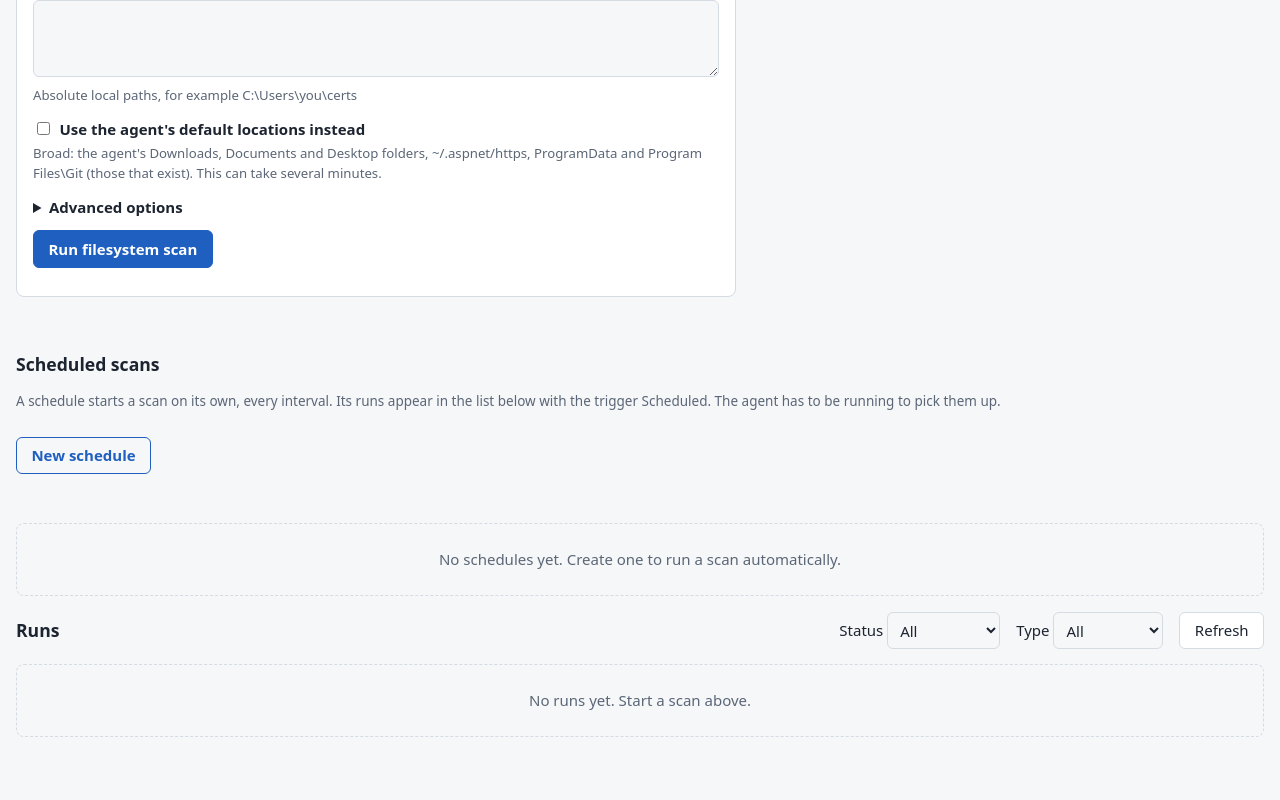
listing › explains an empty list, and a filter that matches nothing
(page scrolled)
Expected: the text "No runs yet. Start a scan above." is shown, [16,664,1264,737]
Step 1. Select "failed" in the dropdown labelled "Status" → (944, 631), box [887,612,1000,649]
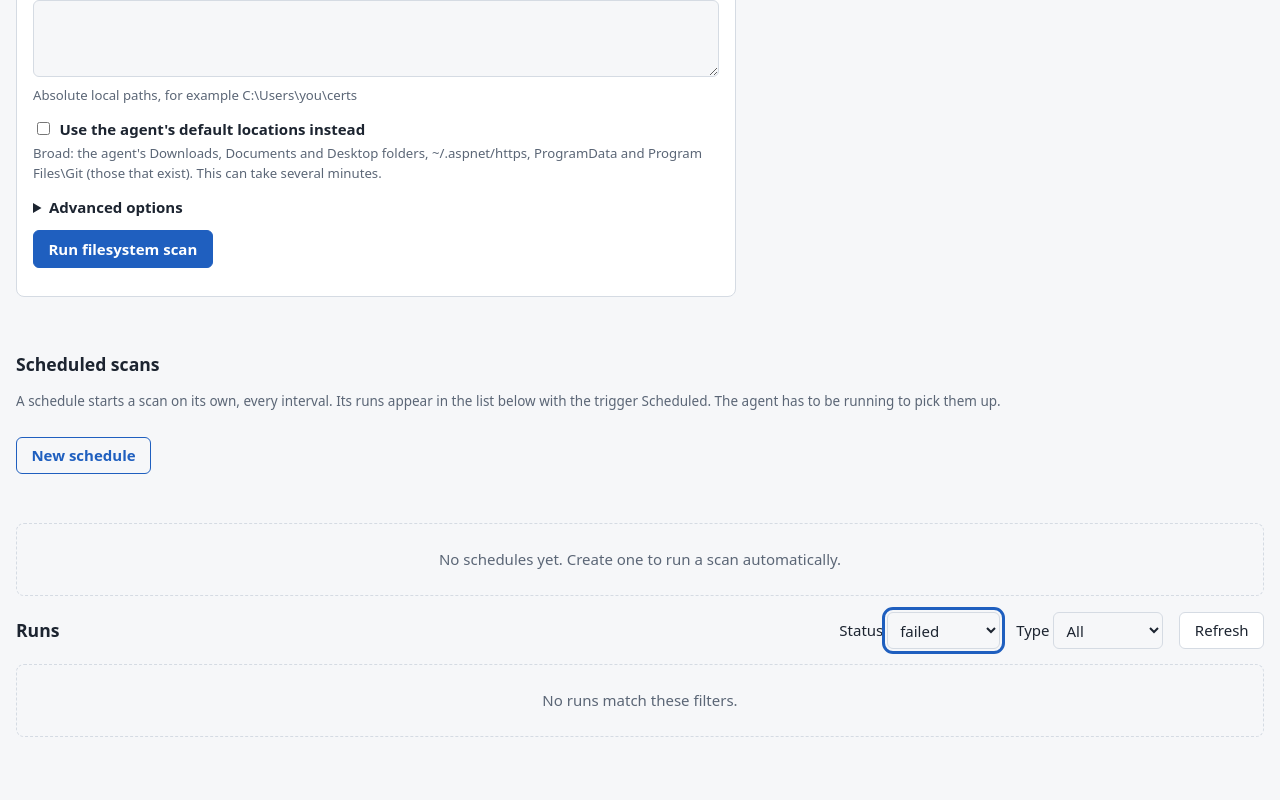
Expected: the text "No runs match these filters." is shown, [16,664,1264,737]
